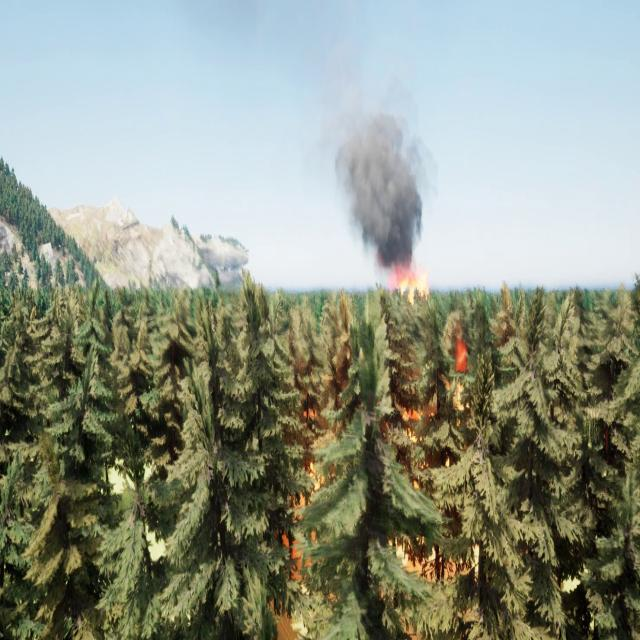fire: (386, 264, 432, 307)
smoke: (326, 63, 438, 264)
